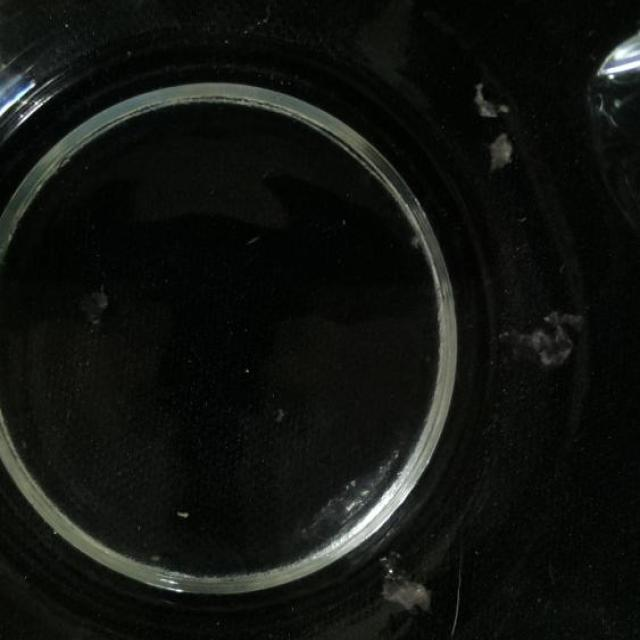fiber: (480, 288, 588, 388), (366, 548, 451, 626), (468, 77, 516, 123), (482, 126, 522, 178)
